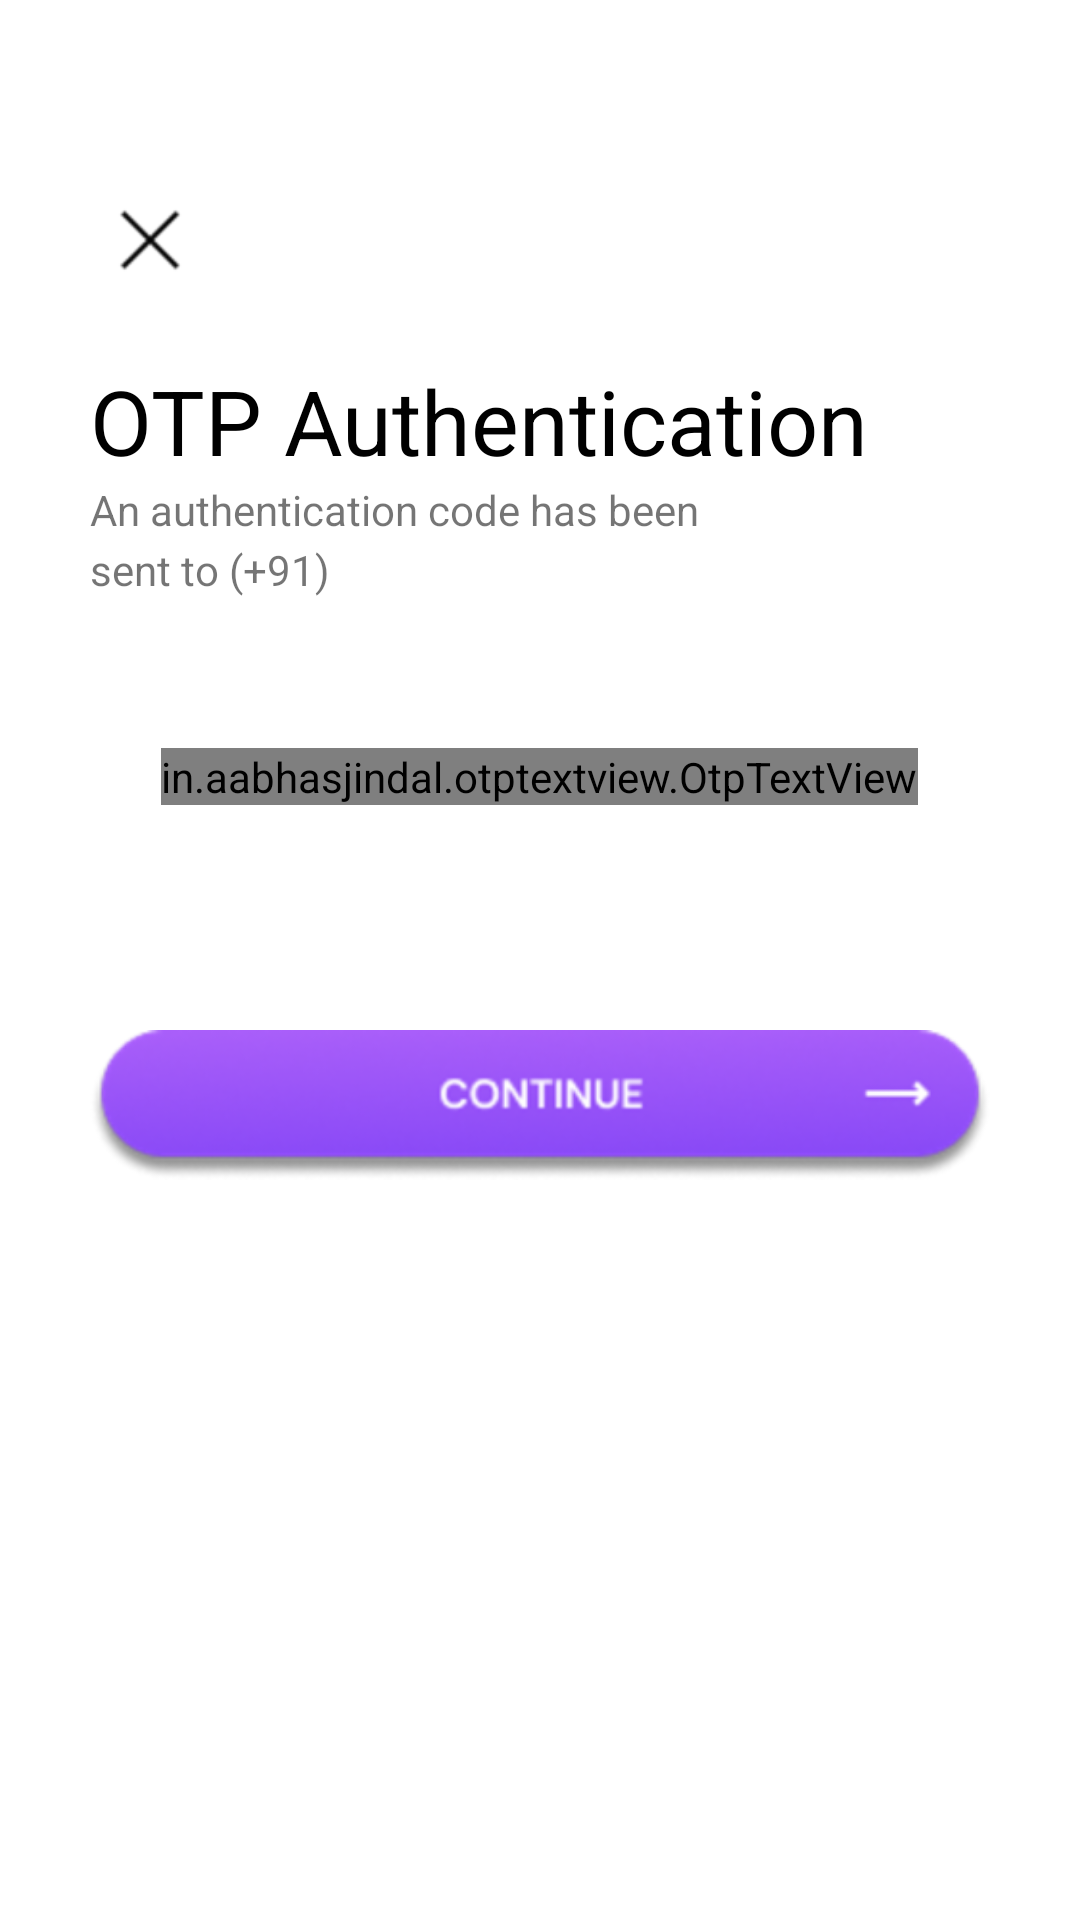

Screen size 1080×1920. Icon name, then its center in pixels as [x,y]:
cross: [150,240]
